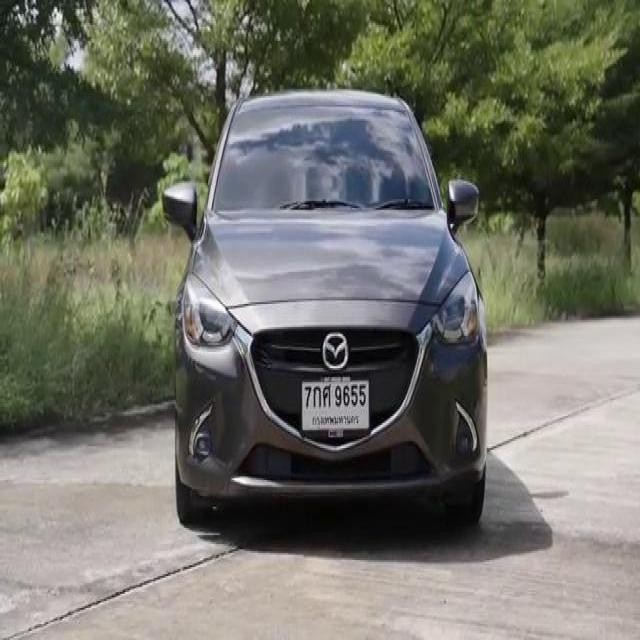Hatchback: (163, 89, 486, 523)
